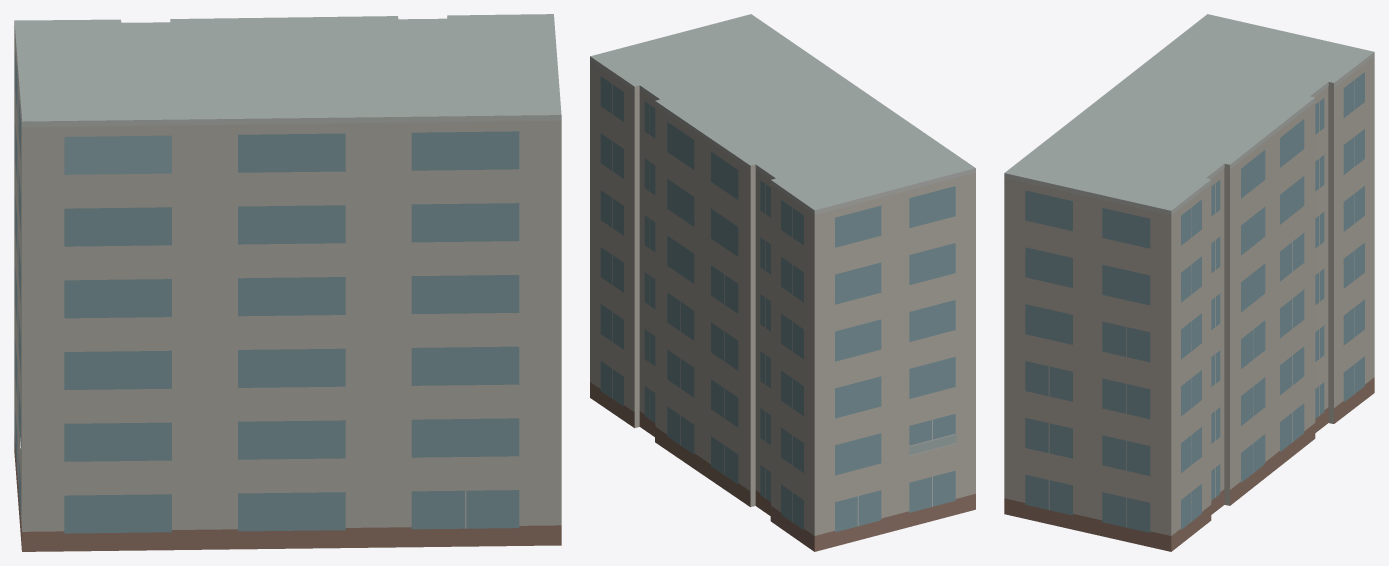
Rendered from survey-upis-32657179.glb.
3 views of the same model, side by side, from view 1: azimuth 30°, elevation 25°; view 2: azimuth 150°, elevation 25°; view 3: azimuth 270°, elevation 25° (orthographic). The views are drawn at different scales.
Parts seen in each view (by area): view 1: survey-upis-32657179.tmp; view 2: survey-upis-32657179.tmp; view 3: survey-upis-32657179.tmp.
Part boxes in pixels (box(x1,y1,x2,y2)): survey-upis-32657179.tmp: box(14, 14, 561, 551); survey-upis-32657179.tmp: box(590, 14, 975, 551); survey-upis-32657179.tmp: box(1004, 14, 1374, 551).
Bounding box in the file's own units: 22.65 × 18.3 × 18.01.
